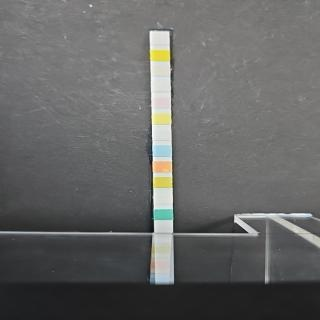mark: (152, 96, 170, 110), (152, 79, 170, 93), (151, 48, 169, 62), (151, 64, 170, 77), (150, 33, 170, 45), (153, 144, 171, 157), (154, 208, 172, 220), (154, 176, 172, 188), (153, 160, 171, 172), (152, 128, 170, 140), (152, 112, 170, 124), (154, 194, 172, 204)
